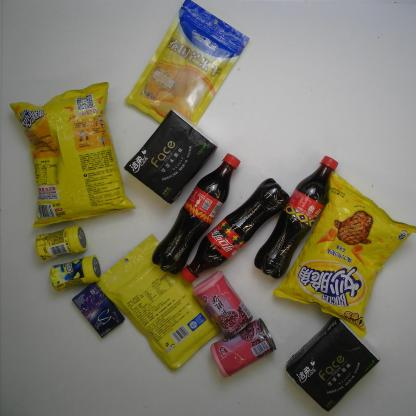Canned Food: (191, 269, 254, 340), (209, 317, 276, 379)
Dried Fruit: (94, 233, 222, 372), (124, 0, 251, 131)
Drink: (179, 177, 290, 284), (150, 152, 241, 275), (253, 155, 340, 281)
Gum: (71, 280, 125, 340), (48, 252, 102, 292), (33, 224, 89, 262)
Puffed Food: (271, 170, 416, 340), (8, 80, 136, 229)
Tissue: (122, 107, 219, 206), (284, 315, 381, 413)
